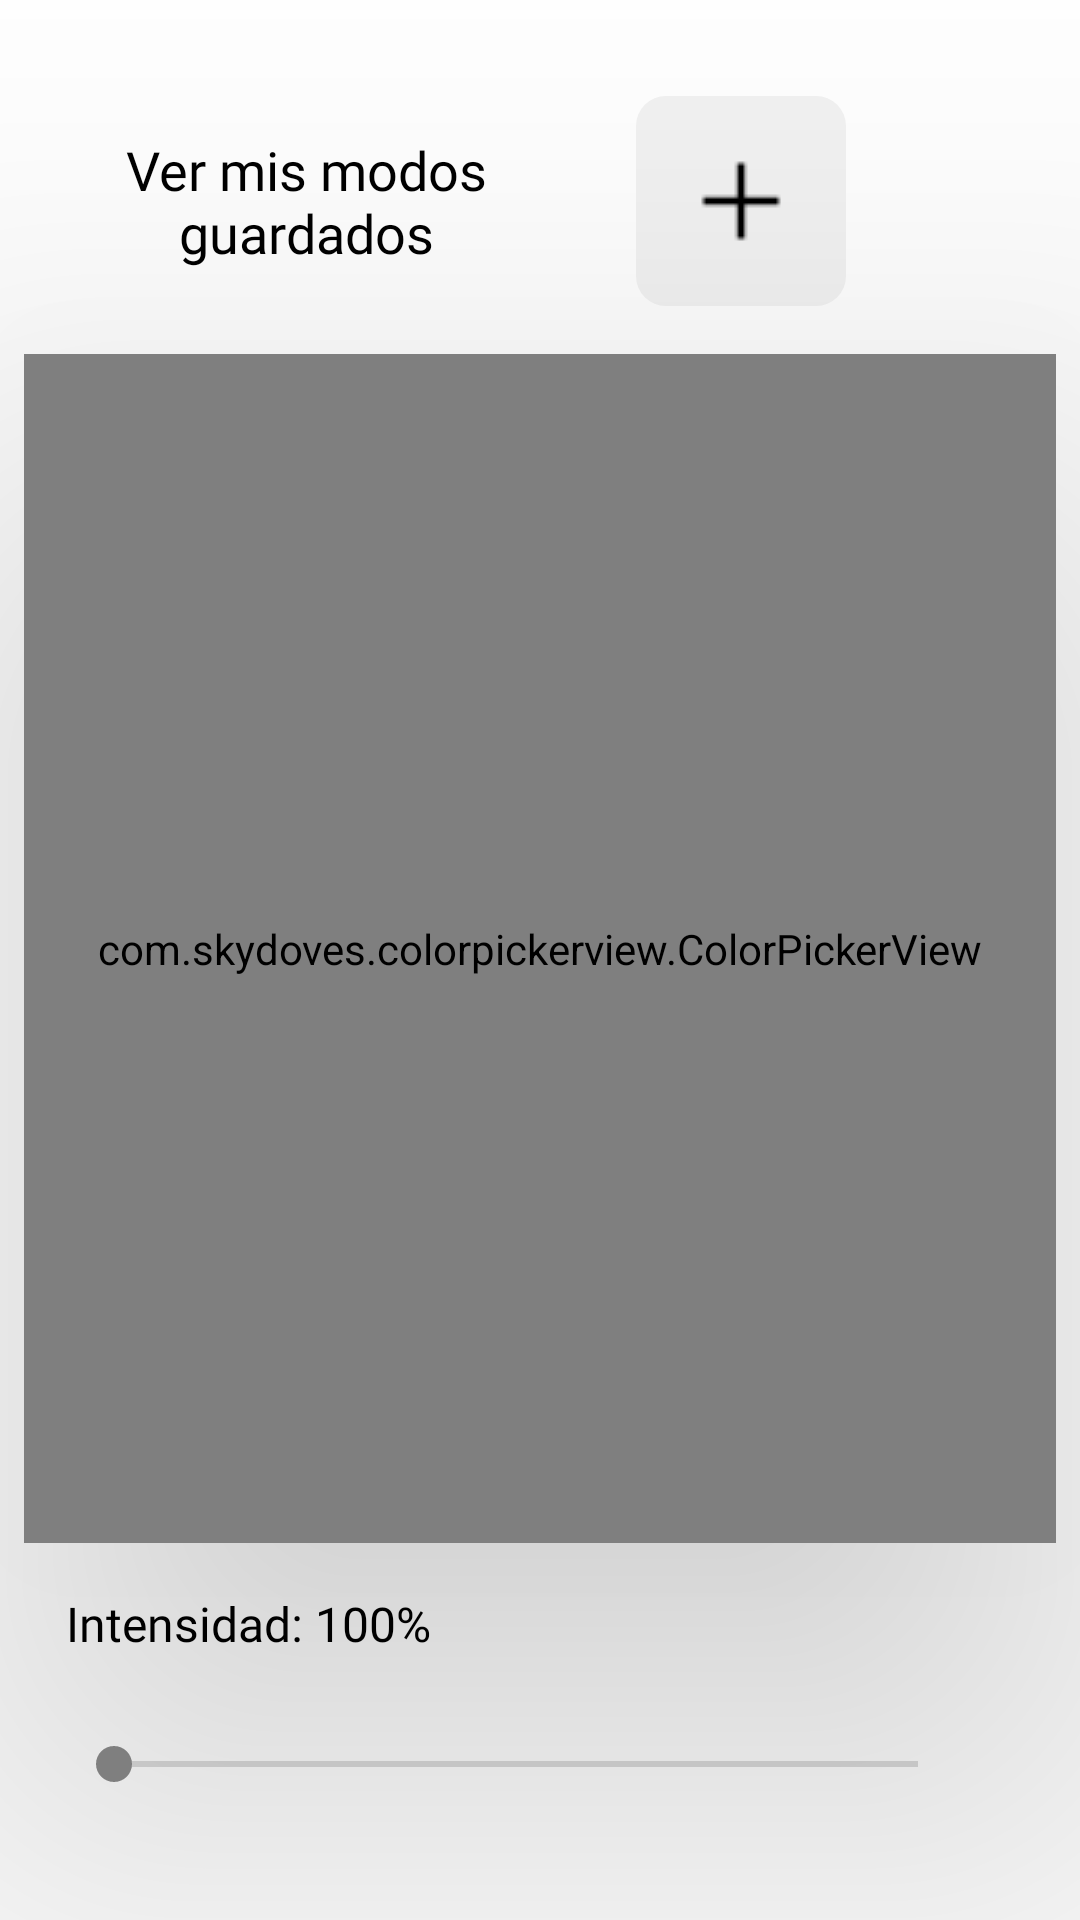

Icon click points for this 1080×1920 phone screenshot, format (x,y):
plus: (741,201)
